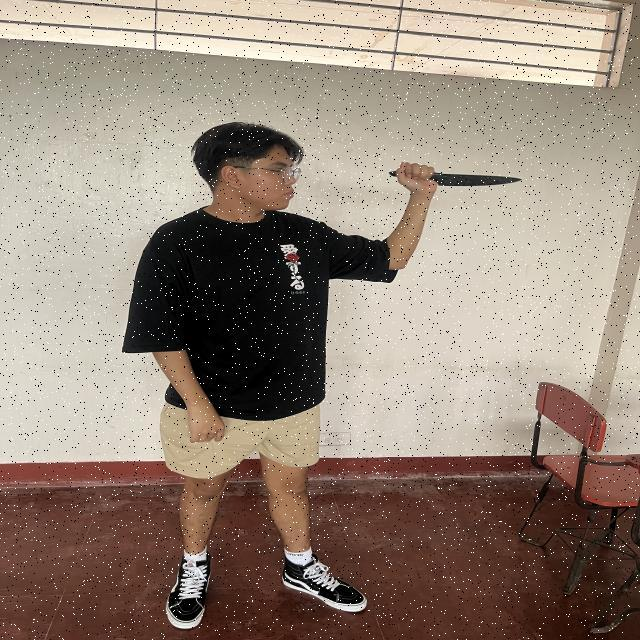knife: (390, 171, 522, 186)
non-violence: (123, 120, 523, 630)
